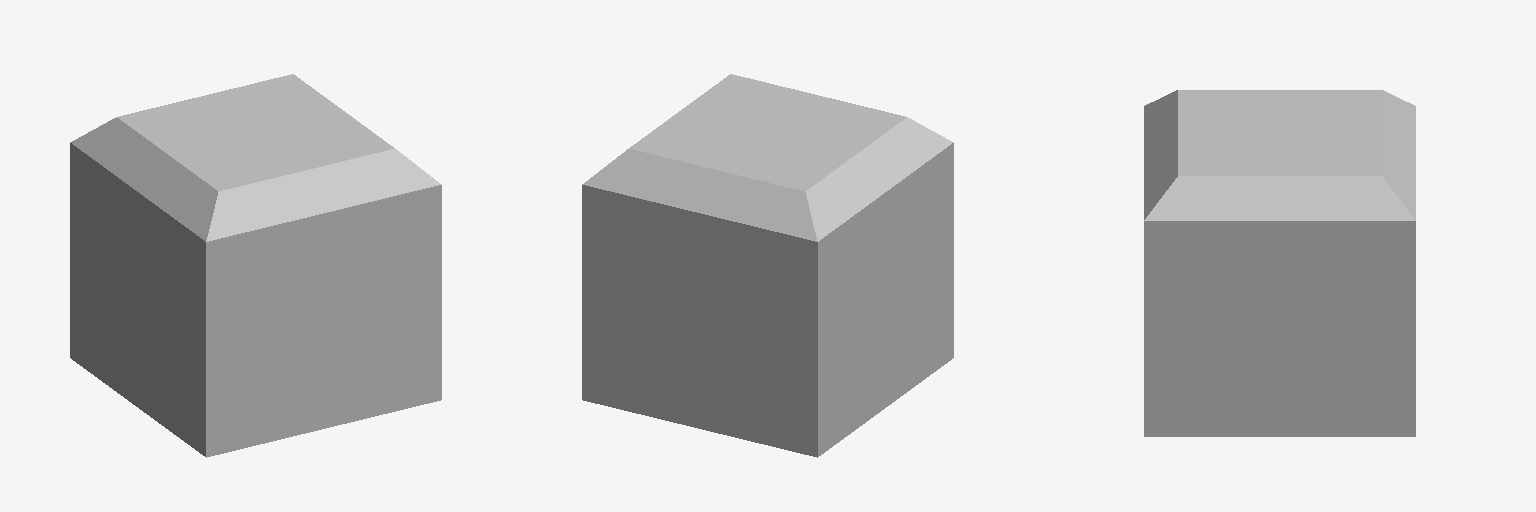
Rendered from mino.obj.
3 renders of one model, left to right at view 1: azimuth 30°, elevation 25°; view 2: azimuth 150°, elevation 25°; view 3: azimuth 270°, elevation 25°, orthographic.
Parts seen in each view (by area): view 1: Cube; view 2: Cube; view 3: Cube.
Part boxes in pixels (x1,y1,x2,y2): Cube: (70,74,441,457); Cube: (582,74,953,457); Cube: (1144,90,1415,436).
Bounding box in the file's own units: 2 × 2 × 2.